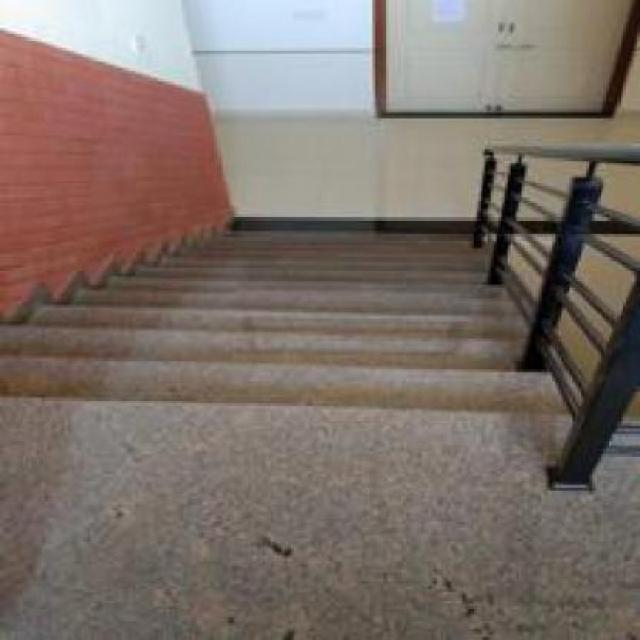stair: (57, 268, 471, 468)
